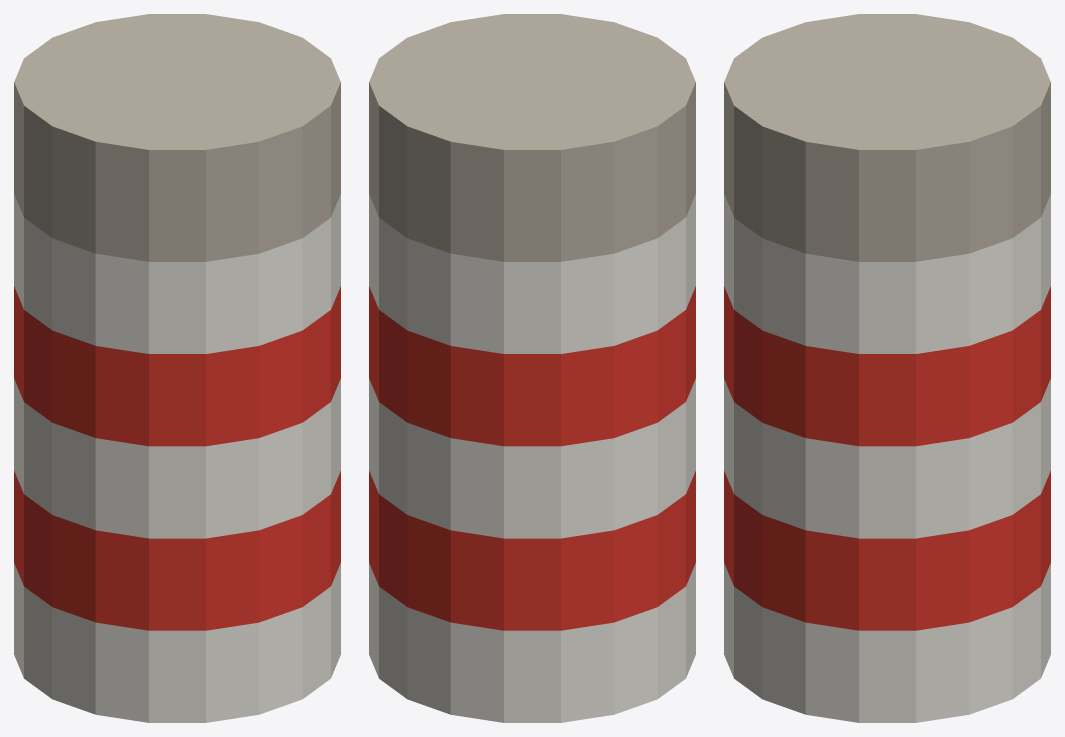
Rendered from MultiColouredDecorationSmallBollard1.fbx.
The picture shows the model from 3 angles, left to right: view 1: azimuth 30°, elevation 25°; view 2: azimuth 150°, elevation 25°; view 3: azimuth 270°, elevation 25°; orthographic projection.
Visible parts, largest first — view 1: MultiColouredDecorationSmallBollard1; view 2: MultiColouredDecorationSmallBollard1; view 3: MultiColouredDecorationSmallBollard1.
Part boxes in pixels (<box>): MultiColouredDecorationSmallBollard1: <box>14,14,340,722</box>; MultiColouredDecorationSmallBollard1: <box>369,14,695,722</box>; MultiColouredDecorationSmallBollard1: <box>724,14,1050,722</box>.
Size of the model in its own units: 98.48 by 194 by 100.
1 material, 1 textured.
